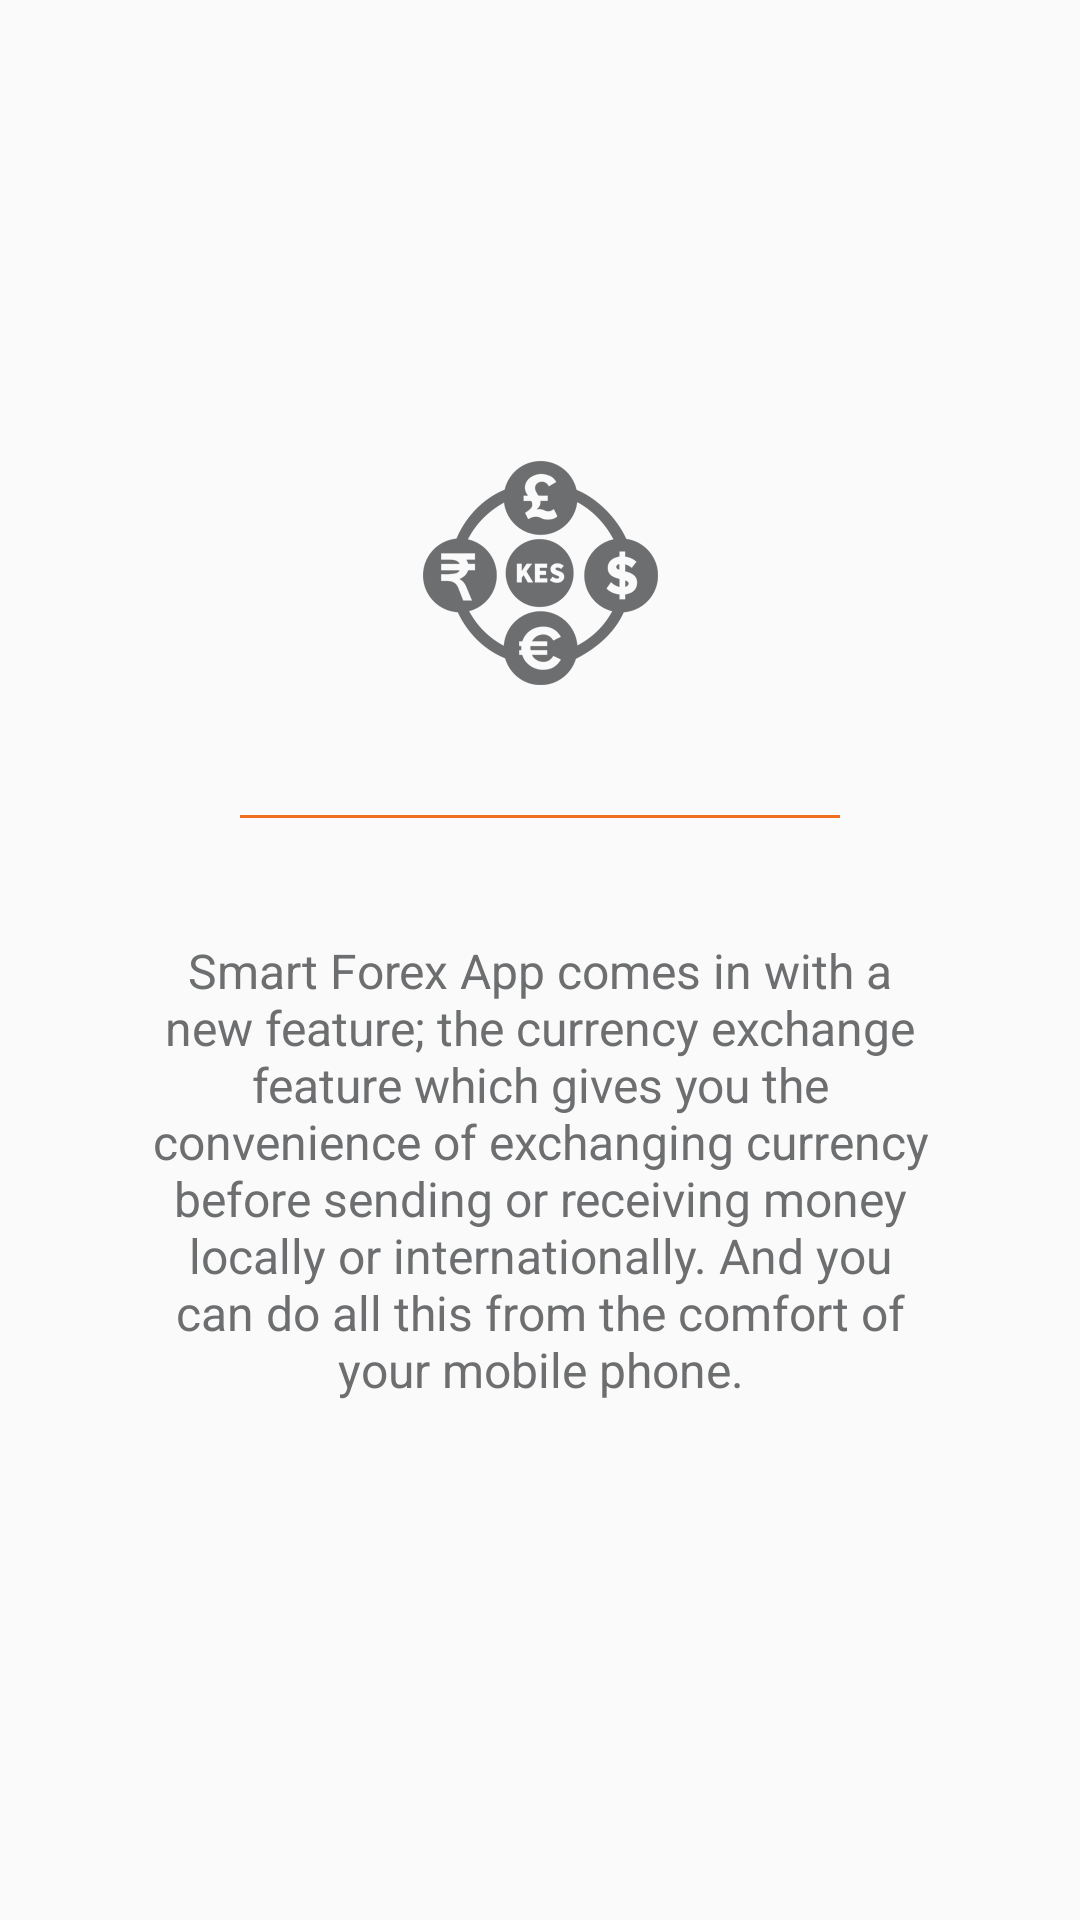

Locate icon controls on the screen. Image size 1080w x 1920h, boxes as (x1, y1, x2, y2).
xchange: (423, 461, 658, 685)
